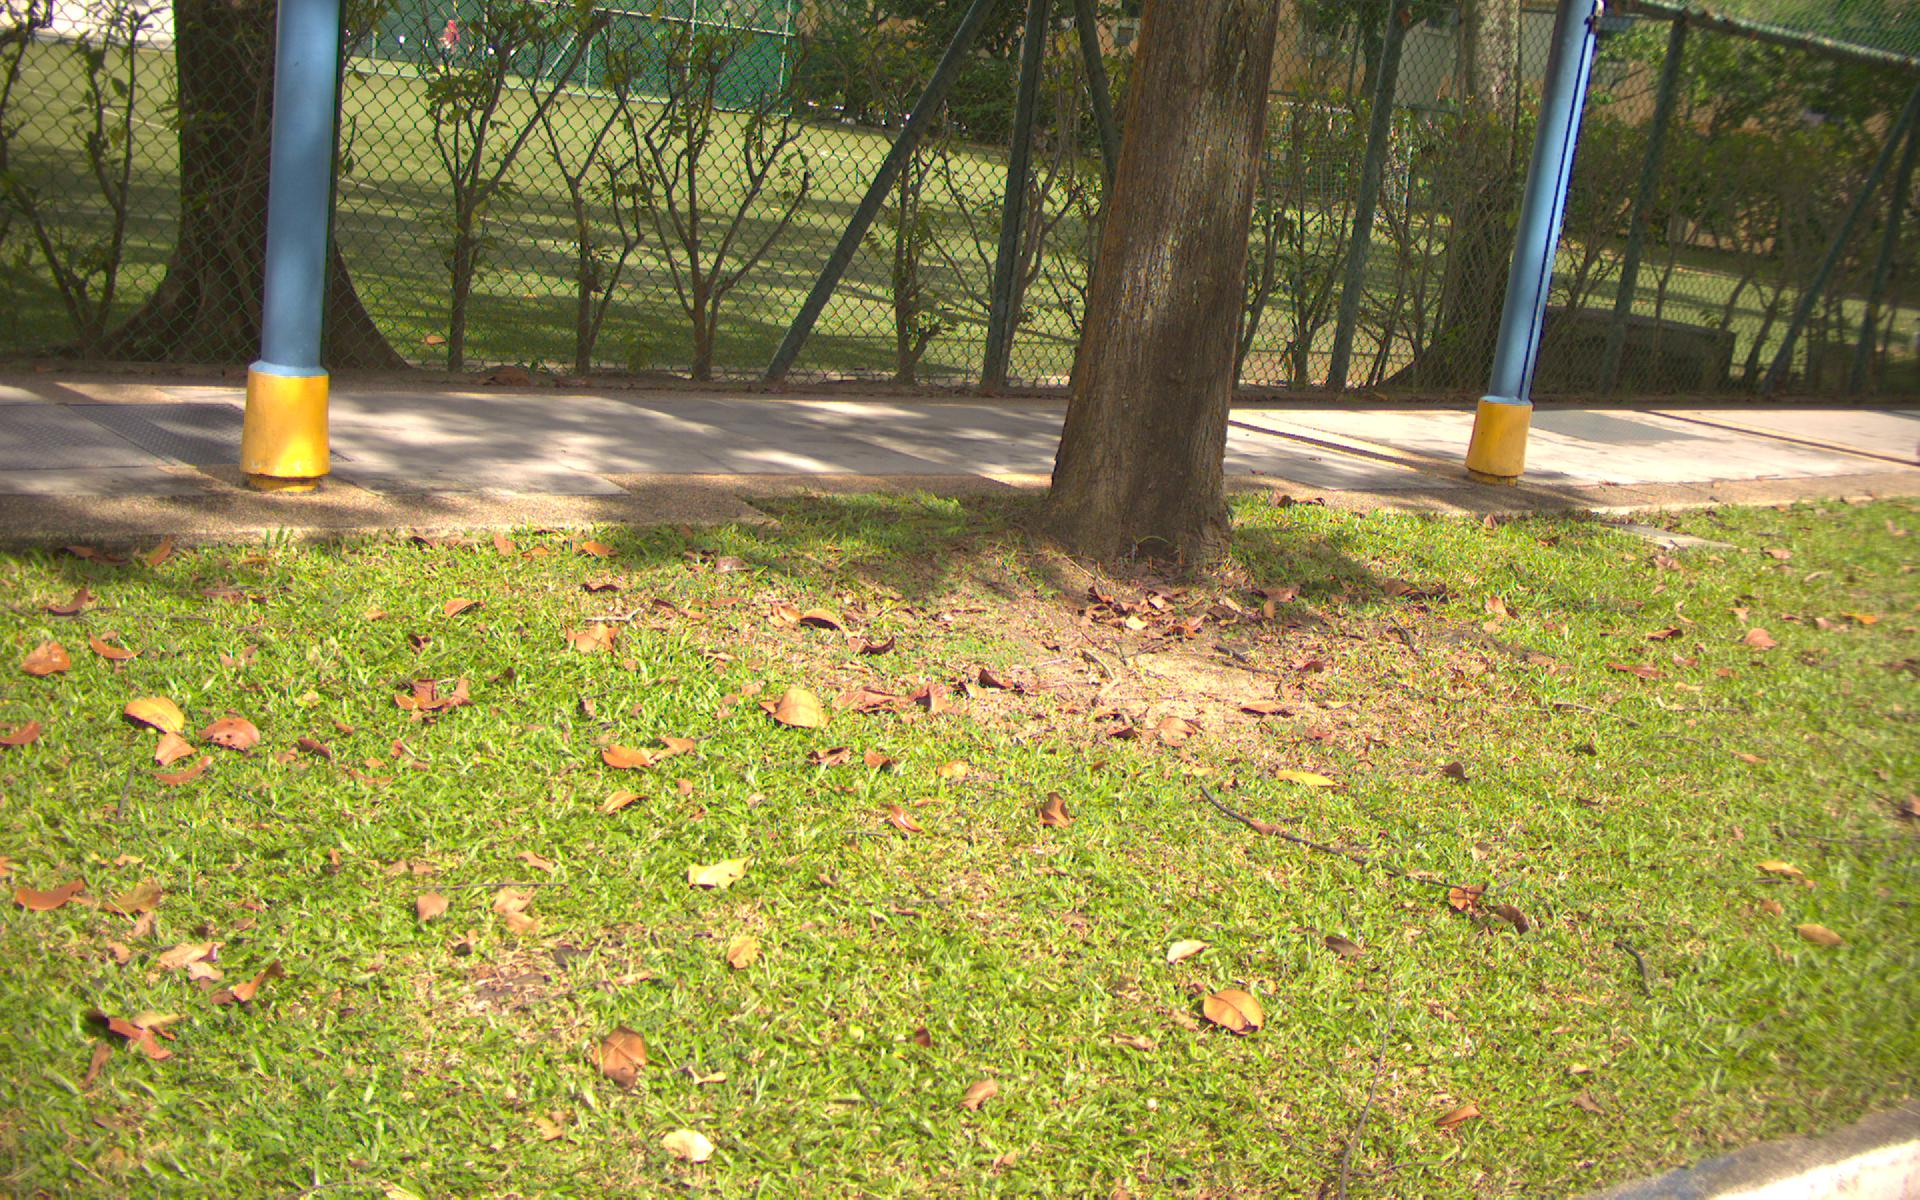pathway_low: (53, 408, 1920, 484)
road_turf_low: (8, 563, 1920, 1082)
